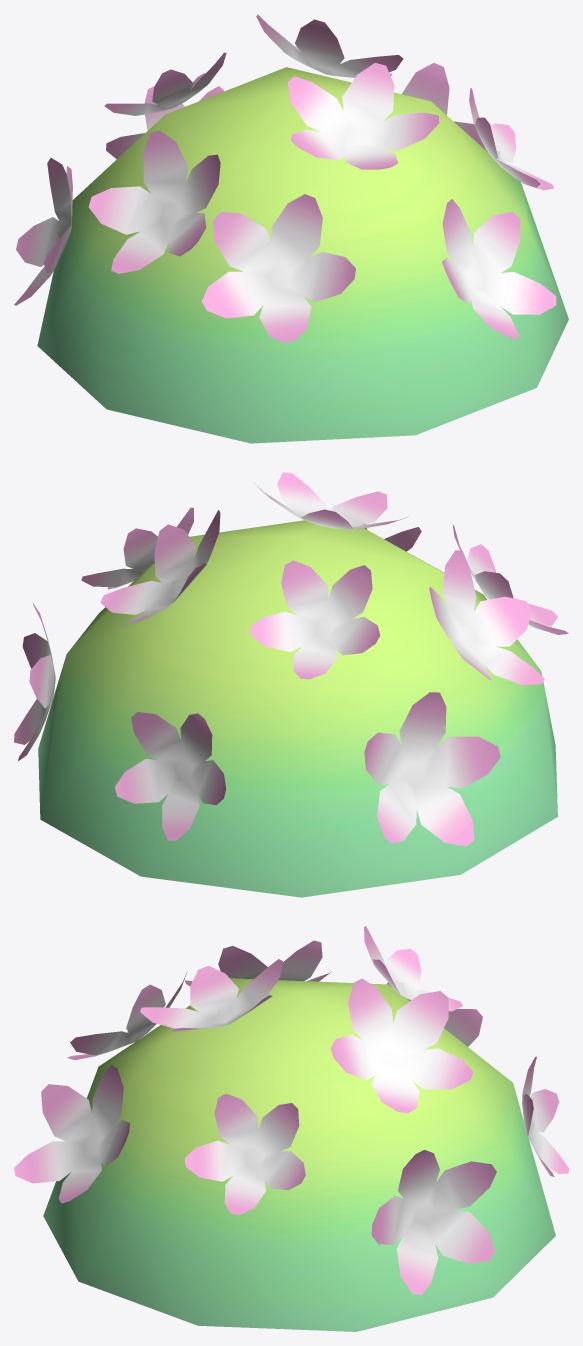
Rendered from Flower.019_Base_Material_0.fbx.
The picture shows the model from 3 angles, top to bottom: view 1: azimuth 30°, elevation 25°; view 2: azimuth 150°, elevation 25°; view 3: azimuth 270°, elevation 25°; orthographic projection. The views are drawn at different scales.
Visible parts, largest first — view 1: Flower.019_Base_Material_0_export; view 2: Flower.019_Base_Material_0_export; view 3: Flower.019_Base_Material_0_export.
Boxes of the visible parts, <box> form: Flower.019_Base_Material_0_export: <box>14,14,568,443</box>; Flower.019_Base_Material_0_export: <box>14,472,568,897</box>; Flower.019_Base_Material_0_export: <box>14,926,568,1331</box>.
Bounding box in the file's own units: 2 × 1.15 × 2.16.
